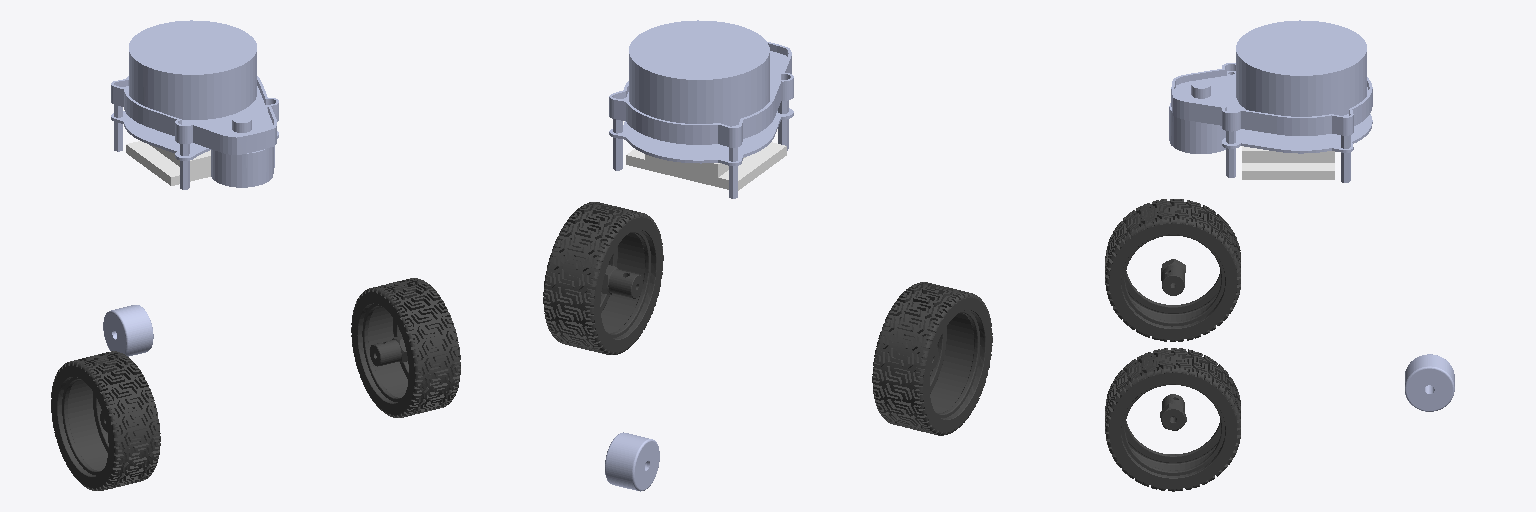
URDF robot description (sr_robot):
<?xml version="1.0" encoding="utf-8"?>
<!-- This URDF was automatically created by SolidWorks to URDF Exporter! Originally created by [author] ([email redacted]) 
     Commit Version: 1.6.0-4-g7f85cfe  Build Version: 1.6.7995.38578
     For more information, please see http://wiki.ros.org/sw_urdf_exporter -->
<robot
  name="sr_robot">
  <link
    name="base_link">
    <inertial>
      <origin
        xyz="0.0686960819979955 -0.128057388312242 0.0906663823430837"
        rpy="0 0 0" />
      <mass
        value="0.366135832063462" />
      <inertia
        ixx="0.000335468988355107"
        ixy="3.91168233468665E-07"
        ixz="-1.37556999741366E-07"
        iyy="0.000278806379023775"
        iyz="7.17626466054311E-08"
        izz="0.000595094796888886" />
    </inertial>
    <visual>
      <origin
        xyz="0 0 0"
        rpy="0 0 0" />
      <geometry>
        <mesh
          filename="package://sr_robot/meshes/base_link.STL" />
      </geometry>
      <material
        name="">
        <color
          rgba="0.792156862745098 0.819607843137255 0.933333333333333 1" />
      </material>
    </visual>
    <collision>
      <origin
        xyz="0 0 0"
        rpy="0 0 0" />
      <geometry>
        <mesh
          filename="package://sr_robot/meshes/base_link.STL" />
      </geometry>
    </collision>
  </link>
  <link
    name="liadr_link">
    <inertial>
      <origin
        xyz="0.026706 0.025 -0.037701"
        rpy="0 0 0" />
      <mass
        value="0.1467" />
      <inertia
        ixx="6.2272E-05"
        ixy="-2.3988E-19"
        ixz="1.8866E-05"
        iyy="0.00010967"
        iyz="-4.041E-19"
        izz="0.00012568" />
    </inertial>
    <visual>
      <origin
        xyz="0 0 0"
        rpy="0 0 0" />
      <geometry>
        <mesh
          filename="package://sr_robot/meshes/liadr_link.STL" />
      </geometry>
      <material
        name="">
        <color
          rgba="0.79216 0.81961 0.93333 1" />
      </material>
    </visual>
    <collision>
      <origin
        xyz="0 0 0"
        rpy="0 0 0" />
      <geometry>
        <mesh
          filename="package://sr_robot/meshes/liadr_link.STL" />
      </geometry>
    </collision>
  </link>
  <joint
    name="ydlidar"
    type="fixed">
    <origin
      xyz="0.042231 -0.15118 0.16236"
      rpy="3.1416 0 1.5708" />
    <parent
      link="base_link" />
    <child
      link="liadr_link" />
    <axis
      xyz="0 0 0" />
  </joint>
  <link
    name="imu_link">
    <inertial>
      <origin
        xyz="-1.1657E-15 -1.6792E-15 -0.0052547"
        rpy="0 0 0" />
      <mass
        value="0.025912" />
      <inertia
        ixx="4.8847E-06"
        ixy="-4.0174E-22"
        ixz="7.7935E-21"
        iyy="5.9275E-06"
        iyz="-1.0843E-21"
        izz="1.0222E-05" />
    </inertial>
    <visual>
      <origin
        xyz="0 0 0"
        rpy="0 0 0" />
      <geometry>
        <mesh
          filename="package://sr_robot/meshes/imu_link.STL" />
      </geometry>
      <material
        name="">
        <color
          rgba="1 1 1 1" />
      </material>
    </visual>
    <collision>
      <origin
        xyz="0 0 0"
        rpy="0 0 0" />
      <geometry>
        <mesh
          filename="package://sr_robot/meshes/imu_link.STL" />
      </geometry>
    </collision>
  </link>
  <joint
    name="imu_joint"
    type="fixed">
    <origin
      xyz="0.067231 -0.12268 0.16236"
      rpy="3.1416 0 -3.1416" />
    <parent
      link="base_link" />
    <child
      link="imu_link" />
    <axis
      xyz="0 0 0" />
  </joint>
  <link
    name="right_wheel">
    <inertial>
      <origin
        xyz="0.018914 1.0267E-09 8.2821E-10"
        rpy="0 0 0" />
      <mass
        value="0.023617" />
      <inertia
        ixx="2.0129E-05"
        ixy="3.2098E-14"
        ixz="1.1178E-13"
        iyy="1.1849E-05"
        iyz="-3.5994E-10"
        izz="1.185E-05" />
    </inertial>
    <visual>
      <origin
        xyz="0 0 0"
        rpy="0 0 0" />
      <geometry>
        <mesh
          filename="package://sr_robot/meshes/right_wheel.STL" />
      </geometry>
      <material
        name="">
        <color
          rgba="0.33333 0.33333 0.33333 1" />
      </material>
    </visual>
    <collision>
      <origin
        xyz="0 0 0"
        rpy="0 0 0" />
      <geometry>
        <mesh
          filename="package://sr_robot/meshes/right_wheel.STL" />
      </geometry>
    </collision>
  </link>
  <joint
    name="right_joint"
    type="continuous">
    <origin
      xyz="0.13736 -0.18018 0.057855"
      rpy="1.944 0 0" />
    <parent
      link="base_link" />
    <child
      link="right_wheel" />
    <axis
      xyz="1 0 0" />
  </joint>
  <link
    name="left_wheel">
    <inertial>
      <origin
        xyz="0.017597 4.069E-10 1.0187E-09"
        rpy="0 0 0" />
      <mass
        value="0.023617" />
      <inertia
        ixx="2.0129E-05"
        ixy="-2.9487E-14"
        ixz="1.3321E-13"
        iyy="1.185E-05"
        iyz="-4.6584E-10"
        izz="1.1849E-05" />
    </inertial>
    <visual>
      <origin
        xyz="0 0 0"
        rpy="0 0 0" />
      <geometry>
        <mesh
          filename="package://sr_robot/meshes/left_wheel.STL" />
      </geometry>
      <material
        name="">
        <color
          rgba="0.33333 0.33333 0.33333 1" />
      </material>
    </visual>
    <collision>
      <origin
        xyz="0 0 0"
        rpy="0 0 0" />
      <geometry>
        <mesh
          filename="package://sr_robot/meshes/left_wheel.STL" />
      </geometry>
    </collision>
  </link>
  <joint
    name="left_joint"
    type="continuous">
    <origin
      xyz="-0.0027026 -0.18018 0.057855"
      rpy="1.7016 0 -3.1416" />
    <parent
      link="base_link" />
    <child
      link="left_wheel" />
    <axis
      xyz="1 0 0" />
  </joint>
  <link
    name="caster_link">
    <inertial>
      <origin
        xyz="-9.3675E-17 -0.008 2.0817E-16"
        rpy="0 0 0" />
      <mass
        value="0.0075067" />
      <inertia
        ixx="4.6266E-07"
        ixy="2.9326E-24"
        ixz="0"
        iyy="6.0762E-07"
        iyz="7.0379E-24"
        izz="4.6266E-07" />
    </inertial>
    <visual>
      <origin
        xyz="0 0 0"
        rpy="0 0 0" />
      <geometry>
        <mesh
          filename="package://sr_robot/meshes/caster_link.STL" />
      </geometry>
      <material
        name="">
        <color
          rgba="0.79216 0.81961 0.93333 1" />
      </material>
    </visual>
    <collision>
      <origin
        xyz="0 0 0"
        rpy="0 0 0" />
      <geometry>
        <mesh
          filename="package://sr_robot/meshes/caster_link.STL" />
      </geometry>
    </collision>
  </link>
  <joint
    name="caster_joint"
    type="continuous">
    <origin
      xyz="0.058231 -0.052185 0.036355"
      rpy="3.1416 1.3388 -1.5708" />
    <parent
      link="base_link" />
    <child
      link="caster_link" />
    <axis
      xyz="0 1 0" />
  </joint>
</robot>

--- Facts derived from the render (not from the file) ---
The picture shows the robot from 3 angles, left to right: view 1: azimuth 30°, elevation 25°; view 2: azimuth 150°, elevation 25°; view 3: azimuth 270°, elevation 25°; orthographic projection.
Model sr_robot with 6 links and 5 joints (3 continuous, 2 fixed), rooted at base_link, posed all joints at 0.
Visible links, largest first — view 1: liadr_link, right_wheel, left_wheel, caster_link, imu_link; view 2: liadr_link, left_wheel, right_wheel, imu_link, caster_link; view 3: liadr_link, right_wheel, left_wheel, imu_link, caster_link.
Boxes of the visible links, x1=… form: liadr_link: x1=111, y1=20, x2=278, y2=189; right_wheel: x1=351, y1=278, x2=460, y2=417; left_wheel: x1=51, y1=351, x2=160, y2=490; caster_link: x1=103, y1=305, x2=153, y2=356; imu_link: x1=126, y1=141, x2=210, y2=185; liadr_link: x1=609, y1=20, x2=793, y2=198; left_wheel: x1=872, y1=282, x2=992, y2=435; right_wheel: x1=543, y1=202, x2=663, y2=354; imu_link: x1=626, y1=142, x2=786, y2=190; caster_link: x1=605, y1=432, x2=659, y2=491; liadr_link: x1=1169, y1=20, x2=1372, y2=182; right_wheel: x1=1105, y1=348, x2=1240, y2=491; left_wheel: x1=1105, y1=199, x2=1240, y2=341; imu_link: x1=1242, y1=146, x2=1334, y2=179; caster_link: x1=1405, y1=354, x2=1454, y2=411.
Bounding box of the posed robot: 0.2036 × 0.1745 × 0.1975 m (x, y, z).
Meshes: 6 distinct files referenced, 5 mesh visuals loaded (5 binary STL); not drawn: 1 (reference not matched to a file when rendering).